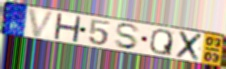5: (87, 18, 112, 46)
H: (52, 12, 83, 43)
Q: (149, 29, 174, 57)
S: (114, 23, 142, 51)
V: (27, 8, 57, 39)
X: (175, 31, 204, 63)
